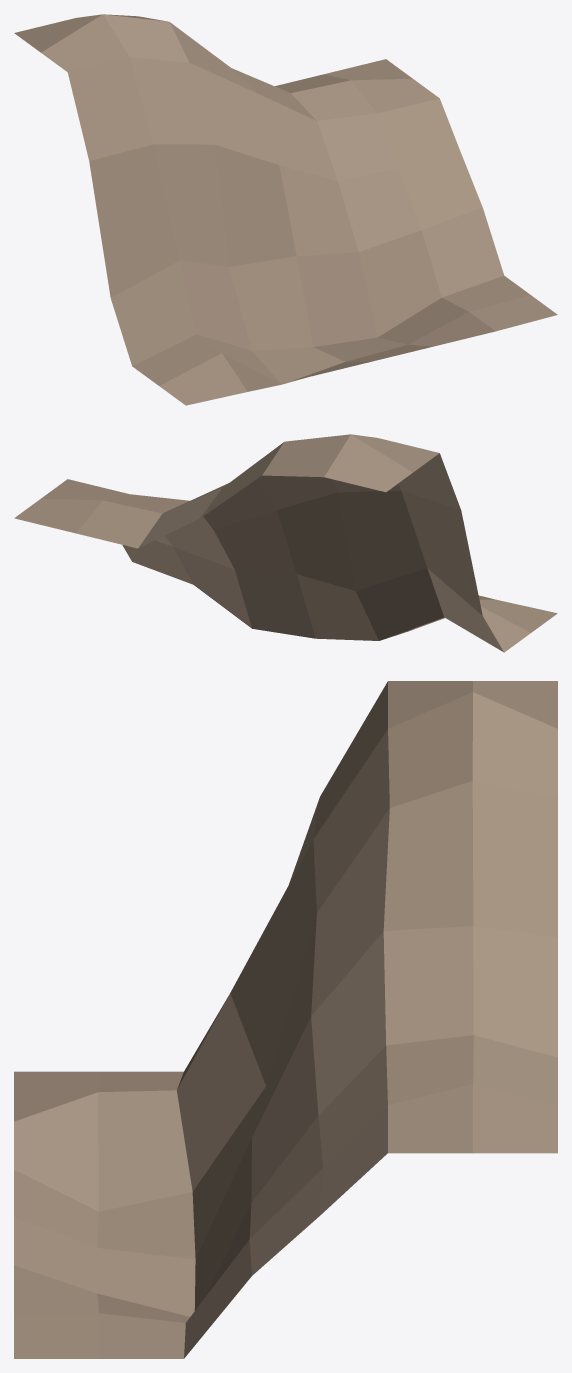
The model's file is Groborchik_RiverBank_Trans_Up4-2.fbx.
The picture shows the model from 3 angles, top to bottom: view 1: azimuth 30°, elevation 25°; view 2: azimuth 150°, elevation 25°; view 3: azimuth 270°, elevation 25°; orthographic projection. The views are drawn at different scales.
Parts seen in each view (by area): view 1: Trans_Up4-2; view 2: Trans_Up4-2; view 3: Trans_Up4-2.
Boxes of the visible parts, <box> form: Trans_Up4-2: <box>14,14,557,405</box>; Trans_Up4-2: <box>14,434,557,652</box>; Trans_Up4-2: <box>14,681,557,1358</box>.
Size of the model in its own units: 1000 by 782 by 800.
